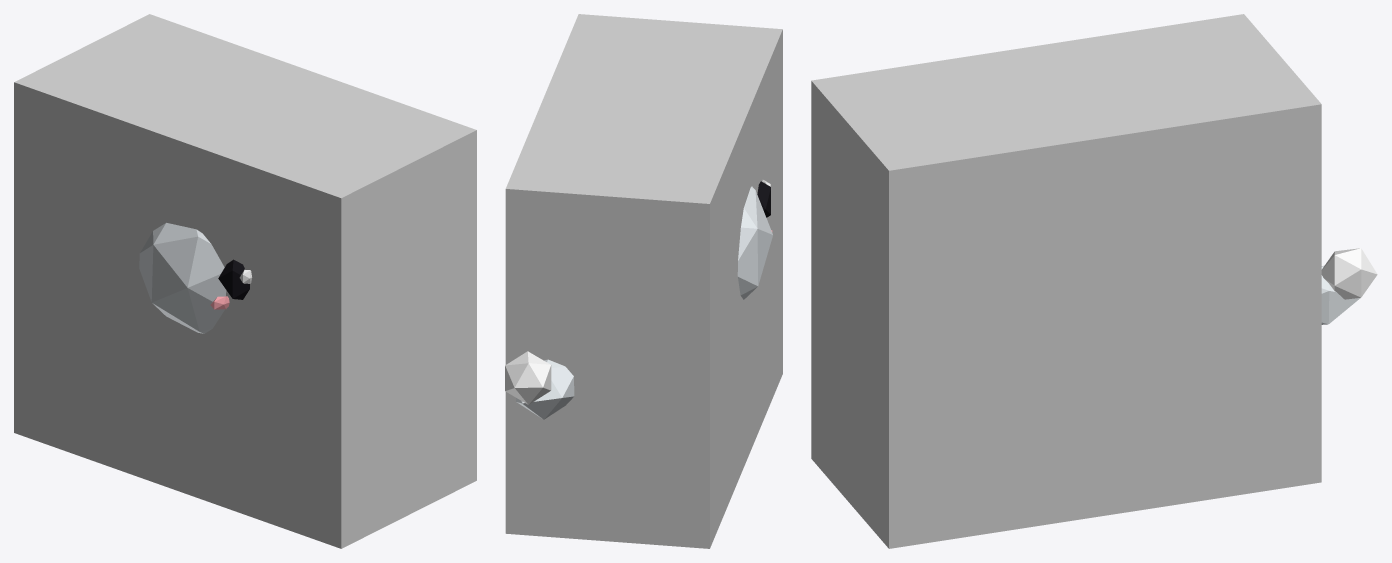
The model's file is tundra_pet6.fbx.
The picture shows the model from 3 angles, left to right: view 1: azimuth 30°, elevation 25°; view 2: azimuth 150°, elevation 25°; view 3: azimuth 270°, elevation 25°; orthographic projection. The views are drawn at different scales.
Visible parts, largest first — view 1: Root__0.00_0.47_0.10__0.52_0.95_1.05, Head__Body__0.00_0.42_-0.08; view 2: Root__0.00_0.47_0.10__0.52_0.95_1.05, Tail__Body__0.00_0.34_0.34, Head__Body__0.00_0.42_-0.08; view 3: Root__0.00_0.47_0.10__0.52_0.95_1.05, Tail__Body__0.00_0.34_0.34.
Boxes of the visible parts, <box> form: Root__0.00_0.47_0.10__0.52_0.95_1.05: <box>14,14,476,548</box>; Head__Body__0.00_0.42_-0.08: <box>139,222,252,333</box>; Root__0.00_0.47_0.10__0.52_0.95_1.05: <box>505,14,782,548</box>; Tail__Body__0.00_0.34_0.34: <box>505,351,574,419</box>; Head__Body__0.00_0.42_-0.08: <box>737,180,772,299</box>; Root__0.00_0.47_0.10__0.52_0.95_1.05: <box>811,14,1321,548</box>; Tail__Body__0.00_0.34_0.34: <box>1321,248,1377,324</box>.
Bounding box in the file's own units: 23.66 × 26.78 × 36.11.
Materials: 1 (1 with a texture image).
